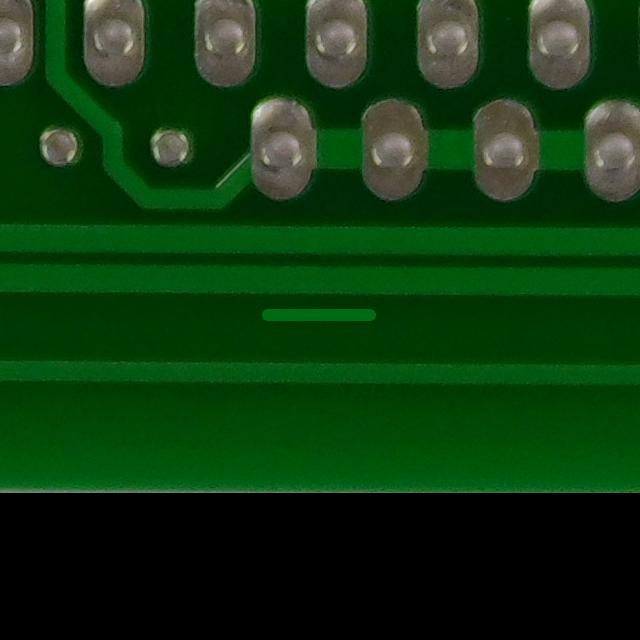spurious_copper: (249, 290, 392, 351)
